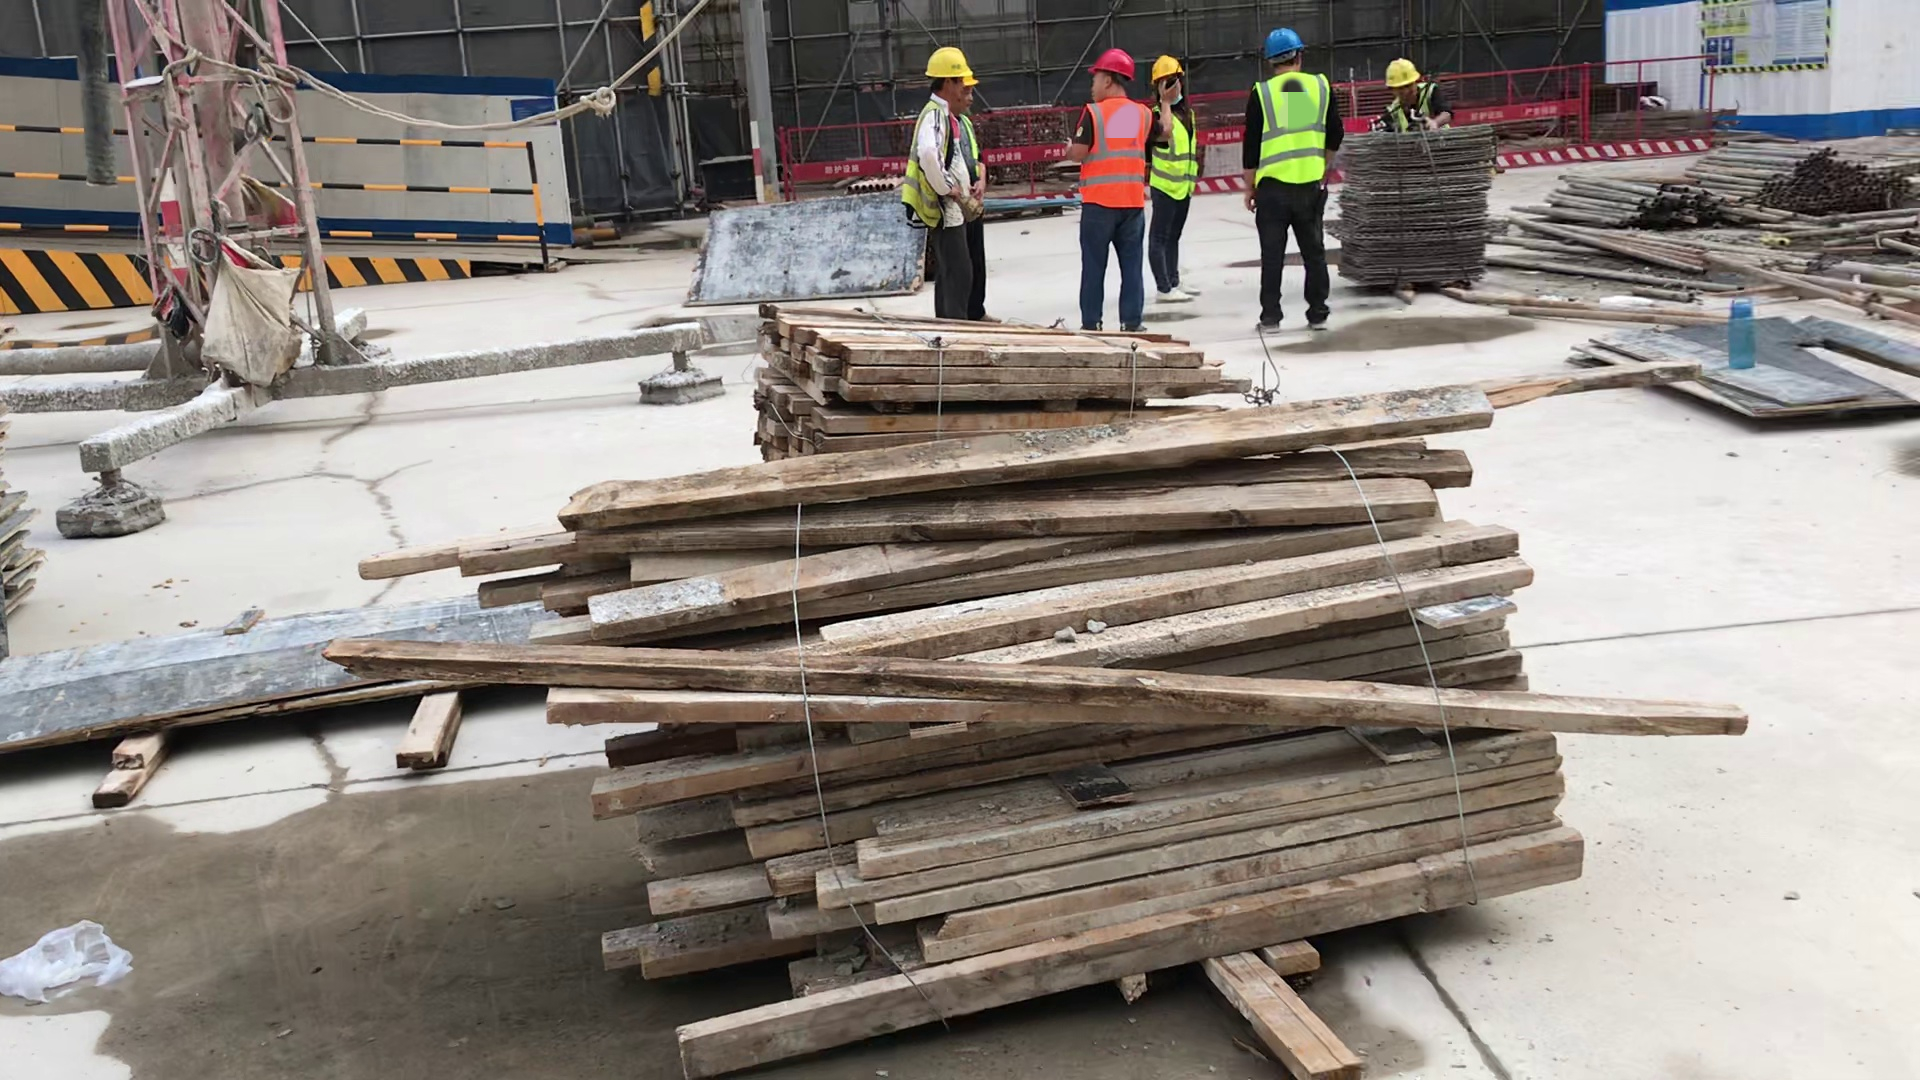fence: (317, 127, 554, 249), (1492, 53, 1716, 165), (3, 117, 133, 245), (988, 109, 1072, 194), (778, 118, 895, 174)
helmet: (1088, 49, 1137, 80), (922, 48, 972, 78), (1261, 30, 1305, 63), (1386, 60, 1420, 88), (1152, 57, 1186, 82)
person: (1238, 28, 1345, 334), (1066, 47, 1147, 332), (900, 45, 980, 324), (1148, 53, 1202, 305), (1381, 58, 1452, 129)
scaffold: (1509, 168, 1764, 234), (1688, 140, 1915, 211)
slogan: (1708, 1, 1830, 71)
vest: (1253, 71, 1327, 185), (1079, 99, 1149, 210), (902, 98, 954, 235), (1151, 104, 1199, 202), (1388, 93, 1436, 132)
wood: (311, 385, 1755, 1080), (738, 297, 1255, 413)
